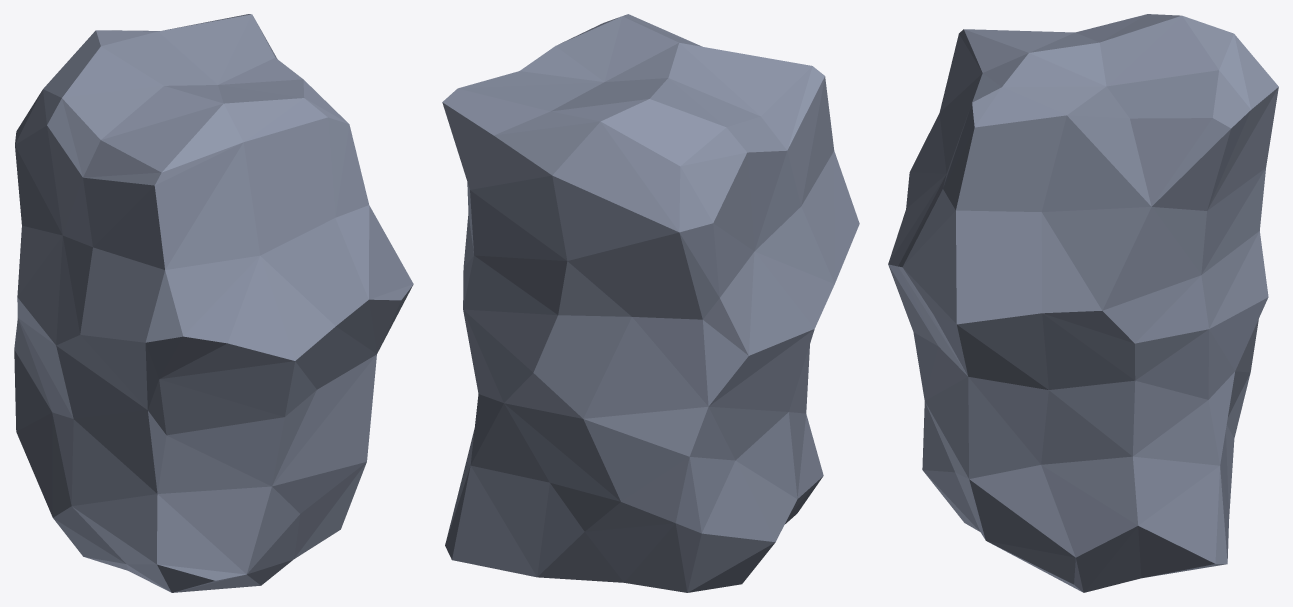
File: Rock3-1.fbx
The picture shows the model from 3 angles, left to right: view 1: azimuth 30°, elevation 25°; view 2: azimuth 150°, elevation 25°; view 3: azimuth 270°, elevation 25°; orthographic projection. The views are drawn at different scales.
Parts seen in each view (by area): view 1: Rock3-1; view 2: Rock3-1; view 3: Rock3-1.
Boxes of the visible parts, <box> form: Rock3-1: <box>14,14,413,592</box>; Rock3-1: <box>442,14,859,592</box>; Rock3-1: <box>888,14,1278,592</box>.
Size of the model in its own units: 98.73 by 152 by 106.
